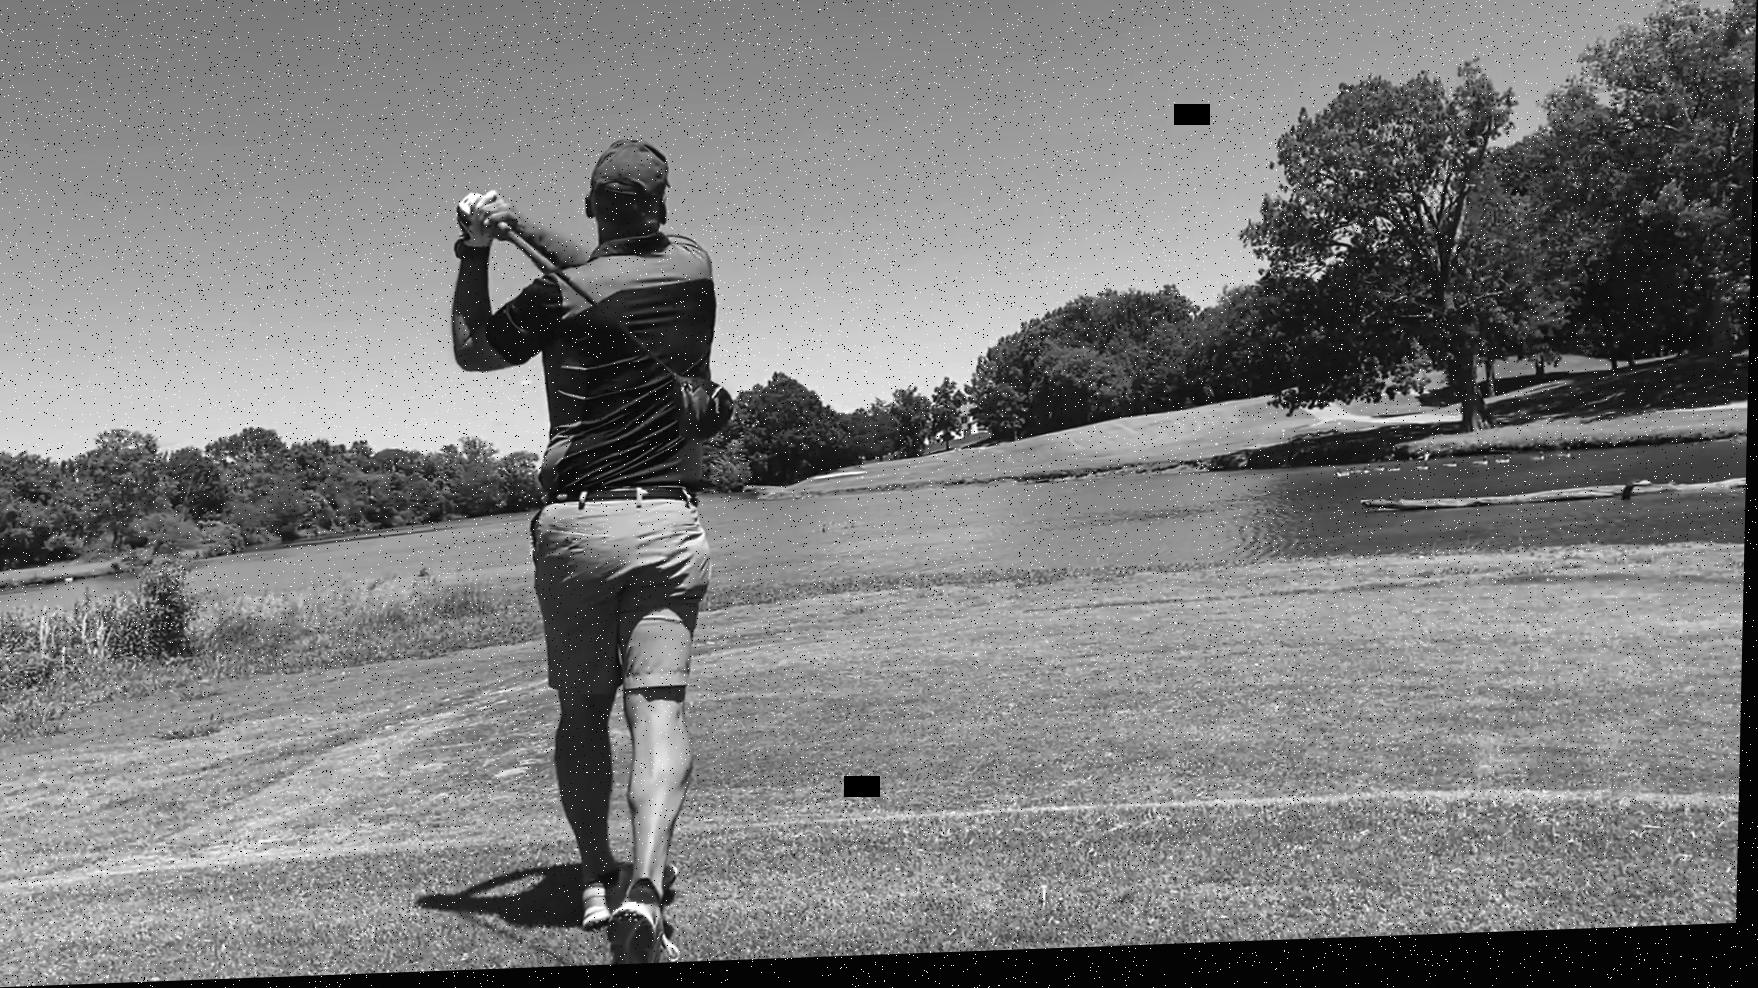ClubHead: (665, 372, 739, 449)
